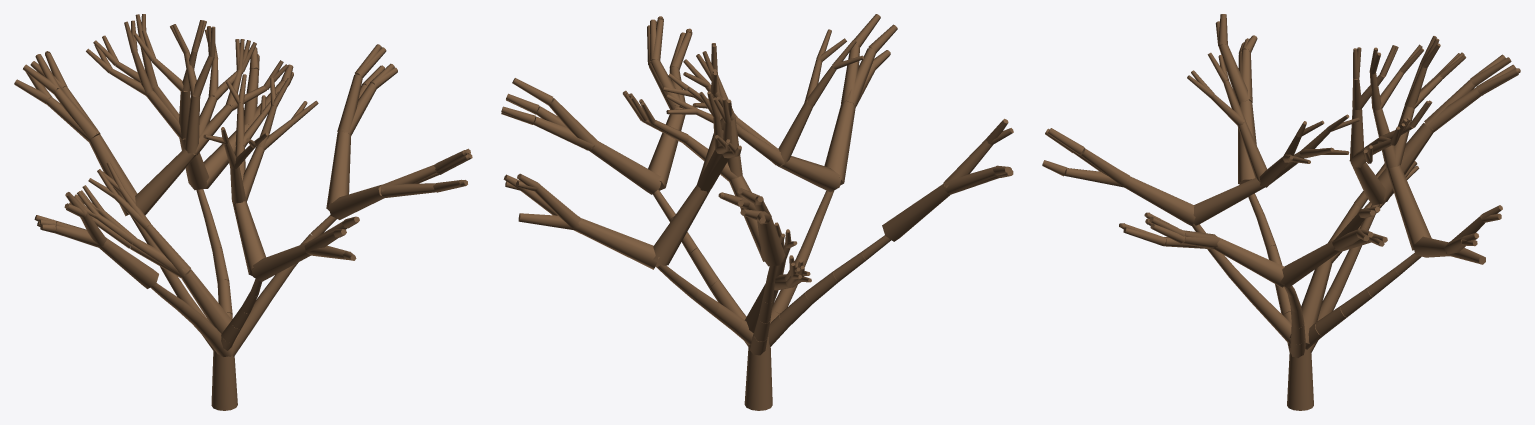
Rendered from kanzan-tel.glb.
3 renders of one model, left to right at view 1: azimuth 30°, elevation 25°; view 2: azimuth 150°, elevation 25°; view 3: azimuth 270°, elevation 25°, orthographic. The views are drawn at different scales.
Visible parts, largest first — view 1: torzs, gally-0-1, gally-0-2 (×2), gally-8-1, gally-7-1, gally-8-2 (×2), gally-5-1, gally-5-2 (×2), gally-6-2 (×2), gally-2-2 (×2), gally-4-1, gally-1-1 (+9 smaller); view 2: gally-3-1, gally-9-1, torzs, gally-1-1, gally-7-2 (×2), gally-8-1, gally-4-1, gally-8-2 (×2), gally-4-2 (×2), gally-1-2 (×2), gally-9-2 (×2), gally-2-1 (+7 smaller); view 3: gally-3-1, torzs, gally-2-1, gally-7-1, gally-1-1, gally-5-1, gally-4-2 (×2), gally-1-2 (×2), gally-8-1, gally-3-2 (×2), gally-6-1, gally-4-1 (+9 smaller).
Boxes of the visible parts, x1,y1,x2,y2 form: torzs: (211, 345, 237, 410); gally-0-1: (135, 148, 195, 215); gally-0-2 (×2): (184, 95, 232, 155); gally-8-1: (326, 131, 351, 211); gally-7-1: (232, 201, 266, 276); gally-8-2 (×2): (337, 74, 376, 134); gally-5-1: (182, 269, 238, 338); gally-5-2 (×2): (132, 224, 190, 278); gally-6-2 (×2): (46, 88, 99, 142); gally-2-2 (×2): (380, 164, 437, 198); gally-4-1: (99, 237, 158, 288); gally-1-1: (251, 242, 310, 281); gally-3-1: (653, 185, 710, 265); gally-9-1: (574, 217, 659, 269); torzs: (744, 337, 772, 410); gally-1-1: (824, 101, 855, 185); gally-7-2 (×2): (737, 102, 812, 166); gally-8-1: (589, 140, 661, 194); gally-4-1: (882, 184, 949, 241); gally-8-2 (×2): (533, 98, 596, 150); gally-4-2 (×2): (943, 139, 996, 192); gally-1-2 (×2): (841, 44, 875, 106); gally-9-2 (×2): (518, 184, 581, 230); gally-2-1: (648, 106, 685, 190); gally-3-1: (1386, 165, 1431, 250); torzs: (1287, 347, 1313, 410); gally-2-1: (1213, 237, 1284, 287); gally-7-1: (1193, 178, 1265, 225); gally-1-1: (1125, 177, 1195, 225); gally-5-1: (1289, 260, 1332, 343); gally-4-2 (×2): (1219, 44, 1252, 103); gally-1-2 (×2): (1064, 148, 1130, 187); gally-8-1: (1280, 240, 1339, 288); gally-3-2 (×2): (1372, 105, 1414, 168); gally-6-1: (1378, 123, 1432, 201); gally-4-1: (1238, 100, 1256, 184).
Size of the model in its own units: 8.52 by 6.93 by 8.24.
